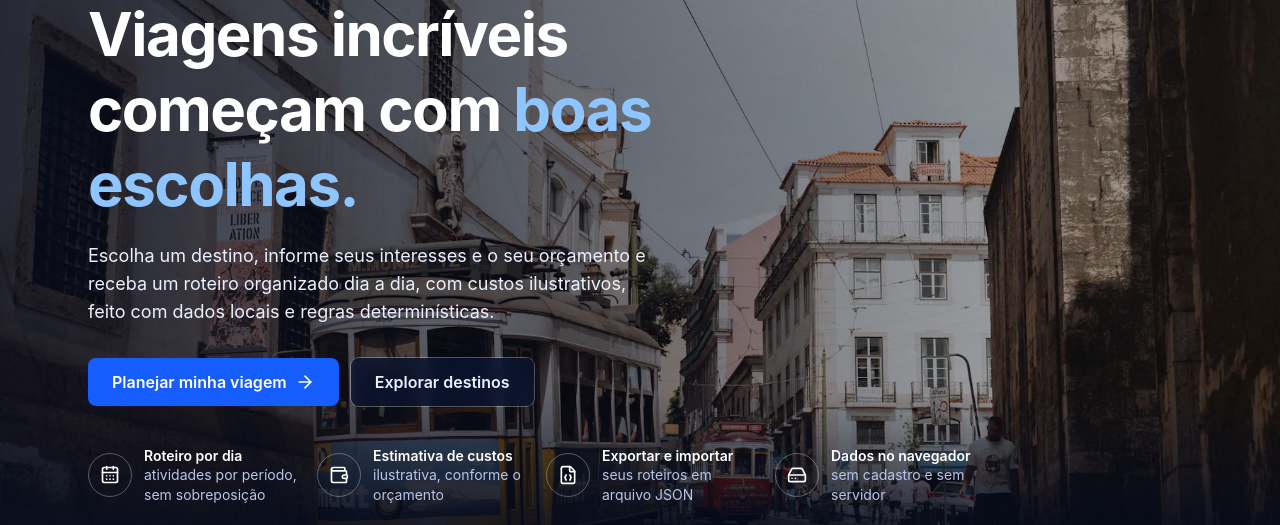
Test: Etapa 2 — Datas e duração › o card selecionado fica destacado e os modos funcionam pelo teclado
Click the link "Planejar minha viagem" at x=213, y=382, box top-left (88, 358), bottom-right (339, 406)
(page scrolled)
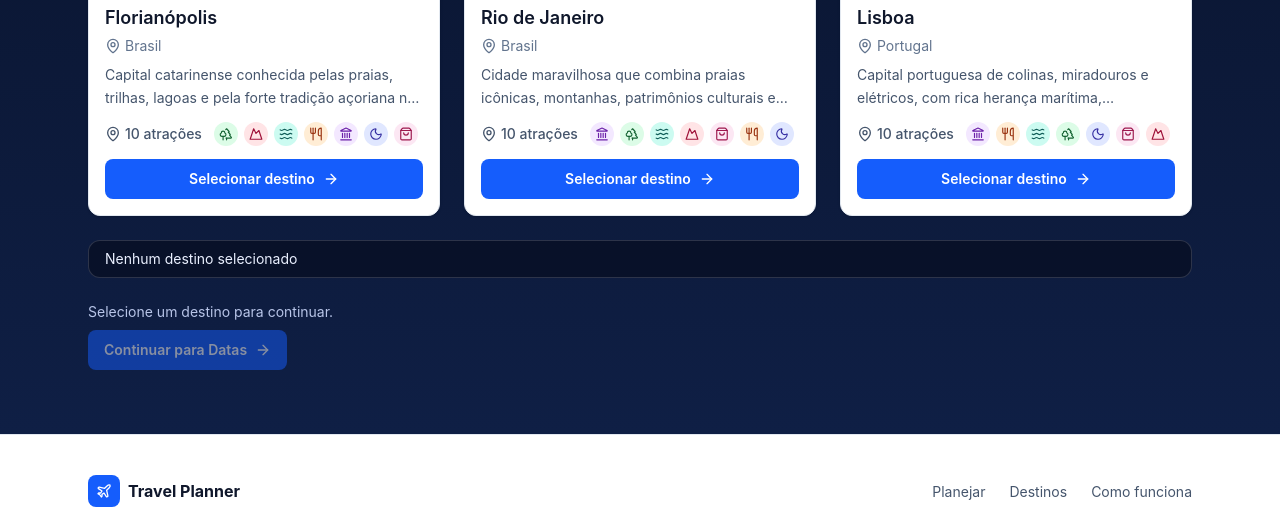
Click the button "Selecionar destino" below "Portugal" at x=1016, y=178, box top-left (857, 158), bottom-right (1175, 198)
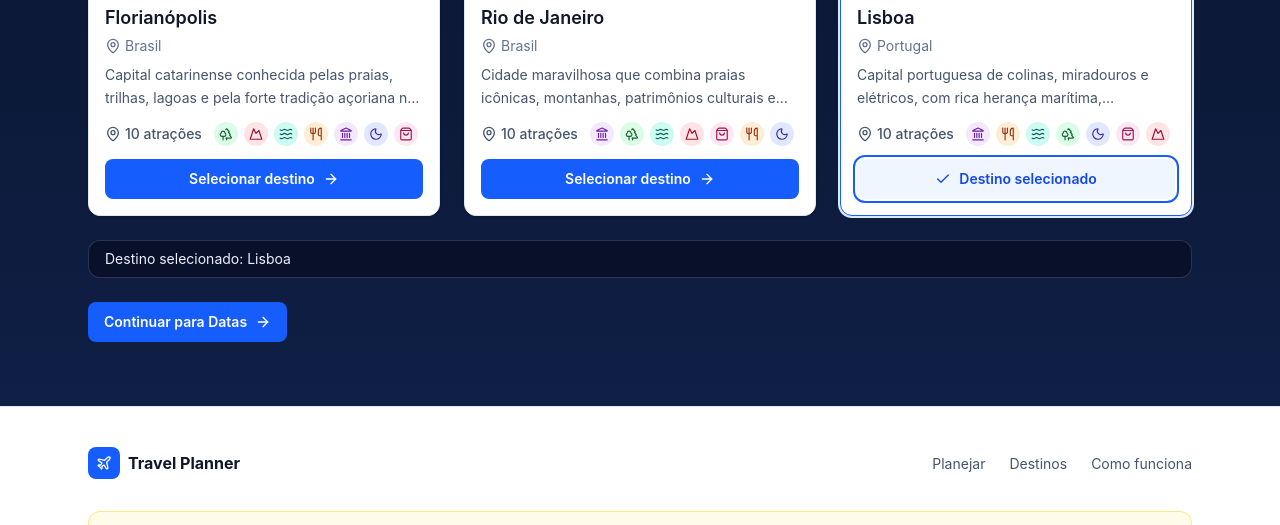
Click the button "Continuar para Datas" at x=188, y=322, box top-left (88, 302), bottom-right (287, 342)
(page scrolled)
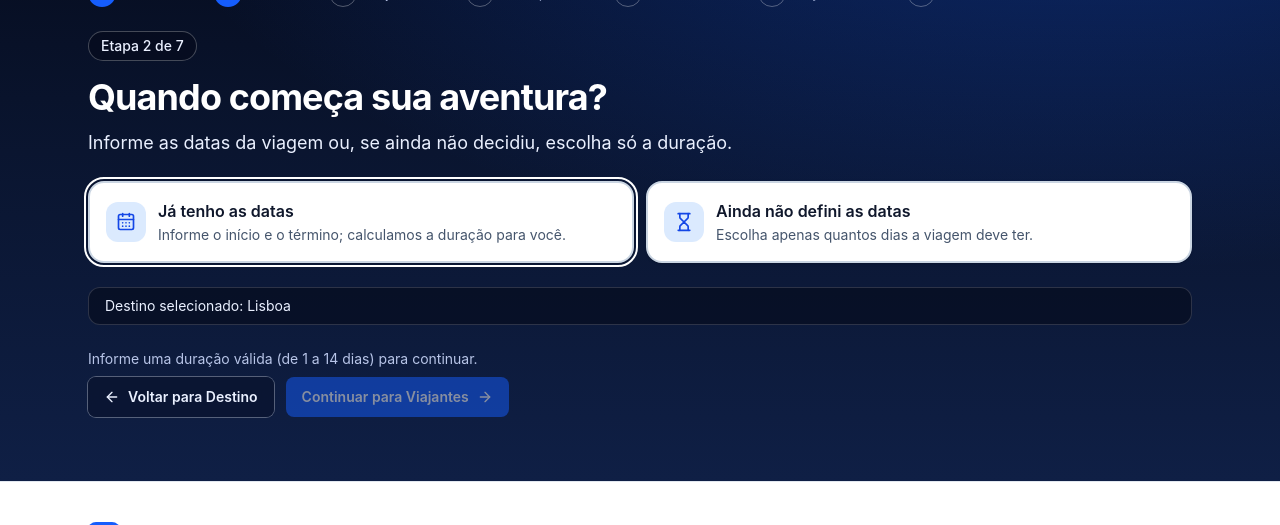
Result: the heading "Quando começa sua aventura?" is shown at top-left (88, 75), bottom-right (607, 119)
Type keys " "
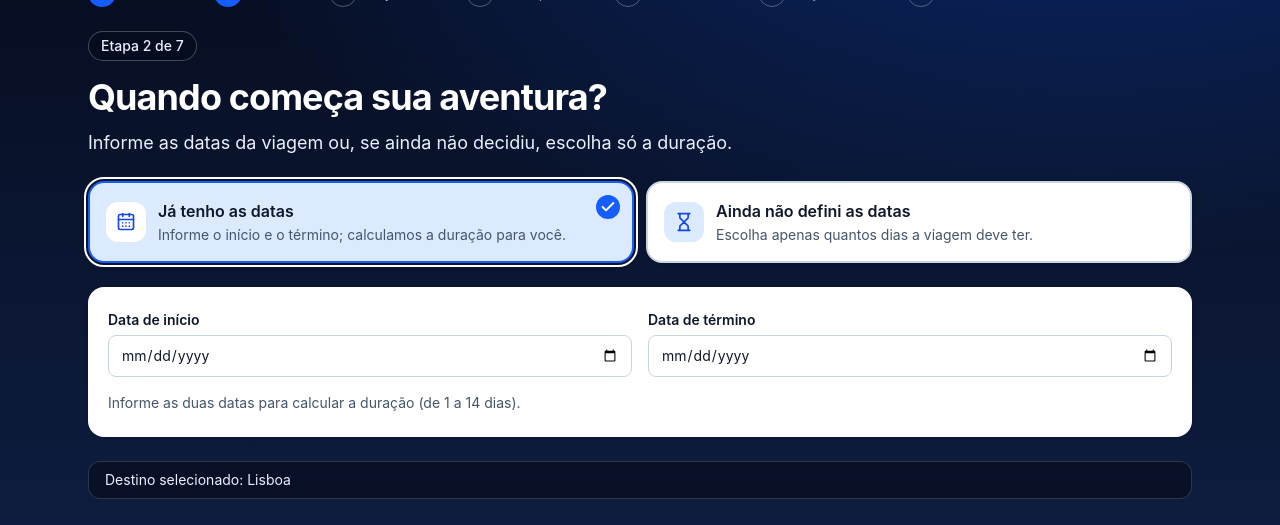
Result: the radio button labelled "Já tenho as datas" is checked at top-left (88, 181), bottom-right (634, 263)
Result: the element with test id "selected-check" is shown at top-left (596, 195), bottom-right (620, 219)
Press Arrowdown
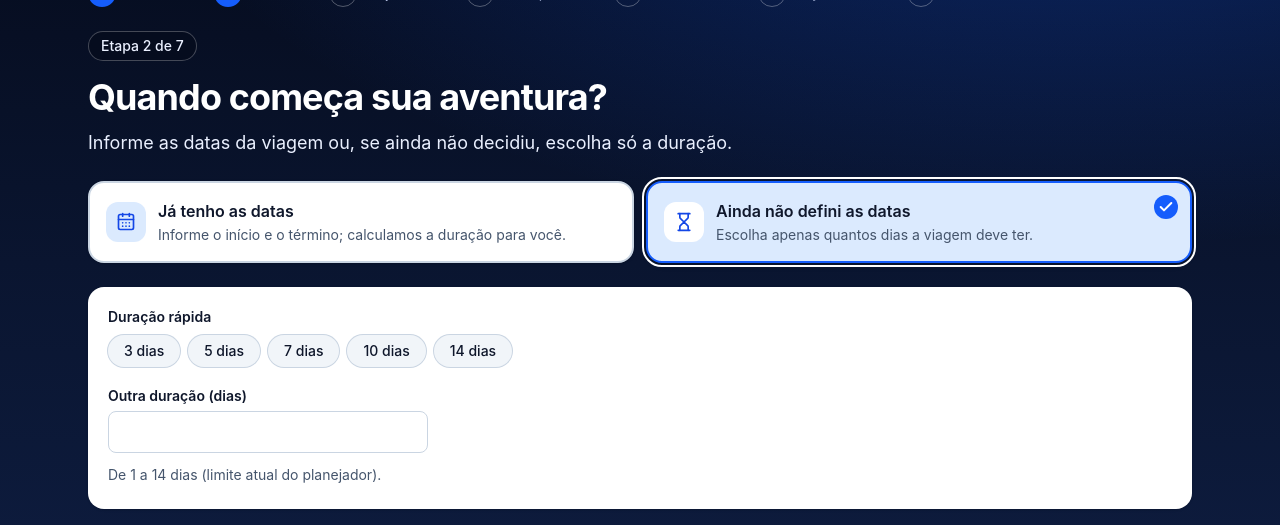
Result: the number of elements with test id "selected-check" is 1 at top-left (1154, 195), bottom-right (1178, 219)
Result: the radio button labelled "Ainda não defini as datas" is checked at top-left (646, 181), bottom-right (1192, 263)
Result: the radio button labelled "Já tenho as datas" is not checked at top-left (88, 181), bottom-right (634, 263)
